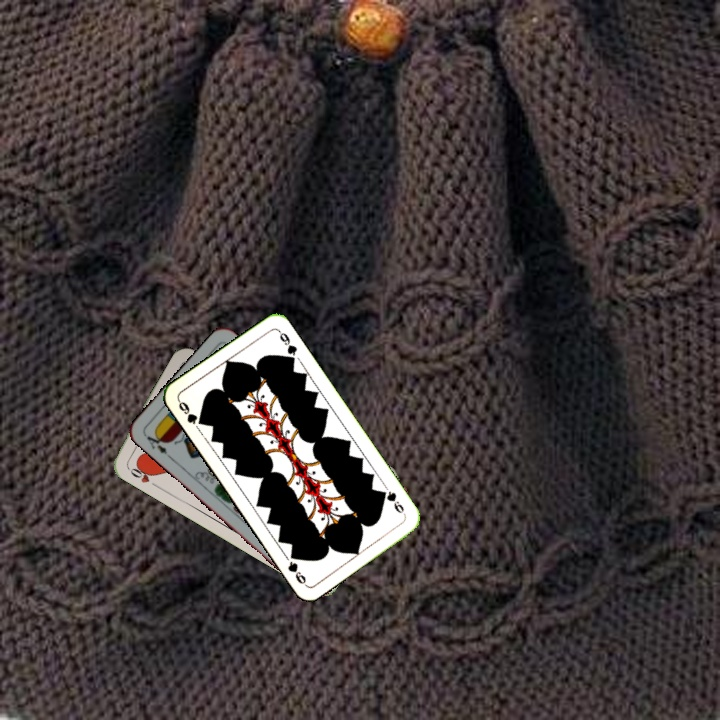EA: (141, 428, 174, 462)
G9: (174, 396, 207, 428), (377, 487, 408, 519)
HO: (123, 460, 160, 489)
